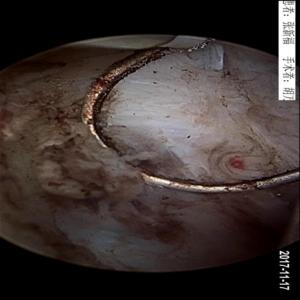film: (45, 120, 207, 245)
